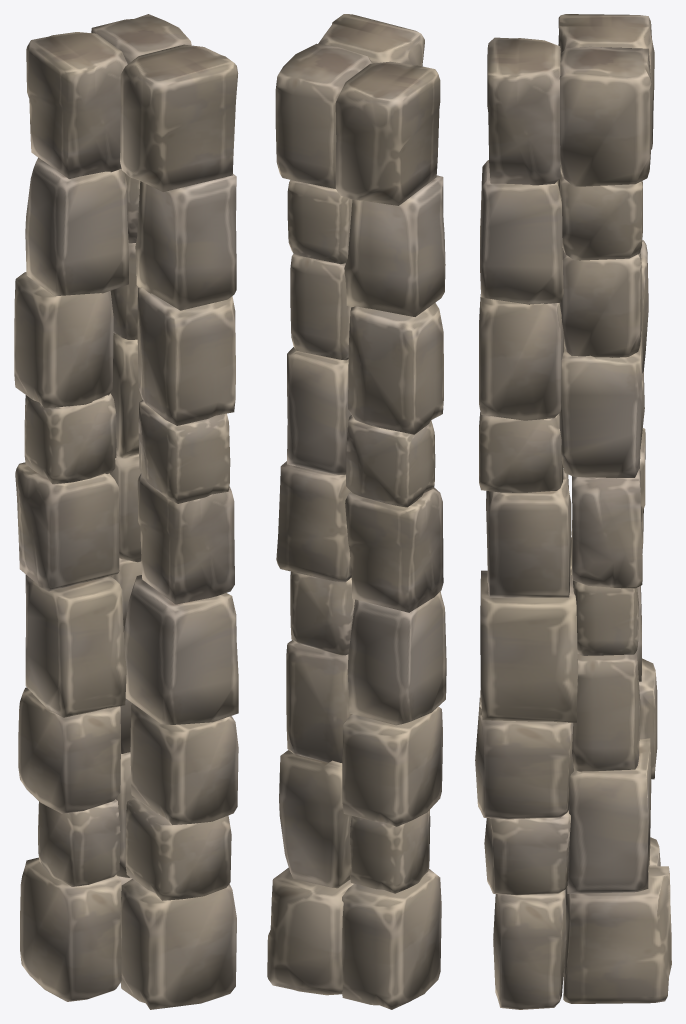
Rendered from Corner_Exterior_Brick.gltf.
3 views of the same model, side by side, from view 1: azimuth 30°, elevation 25°; view 2: azimuth 150°, elevation 25°; view 3: azimuth 270°, elevation 25° (orthographic). The views are drawn at different scales.
Parts seen in each view (by area): view 1: Corner_Exterior_Brick; view 2: Corner_Exterior_Brick; view 3: Corner_Exterior_Brick.
Boxes of the visible parts, x1,y1,x2,y2 form: Corner_Exterior_Brick: (14, 14, 238, 1009); Corner_Exterior_Brick: (267, 14, 446, 1009); Corner_Exterior_Brick: (475, 14, 671, 1009).
Bounding box in the file's own units: 0.5307 × 3.02 × 0.5758.
Materials: 1 (1 with a texture image).
